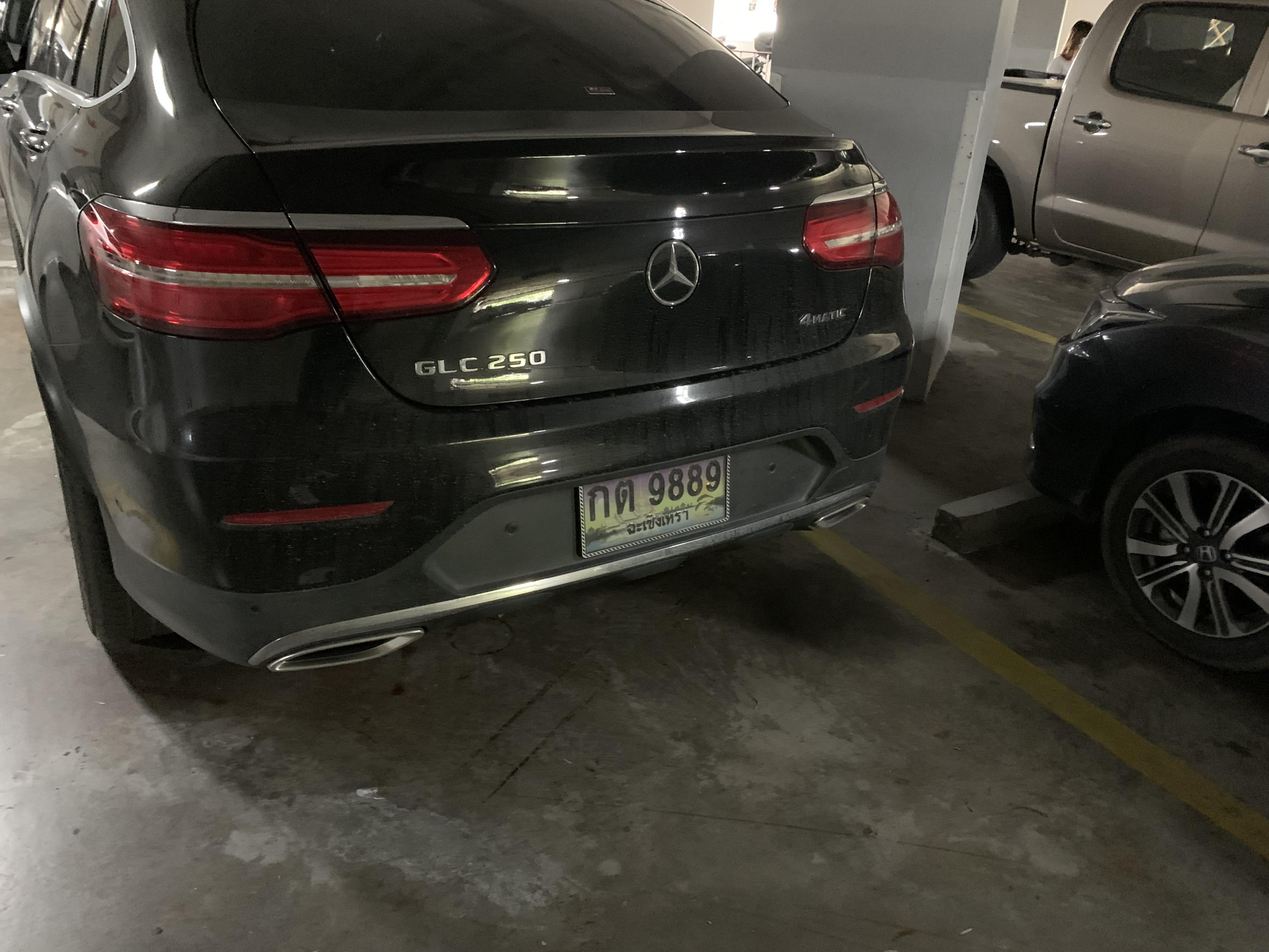license-plate: (575, 447, 737, 567)
